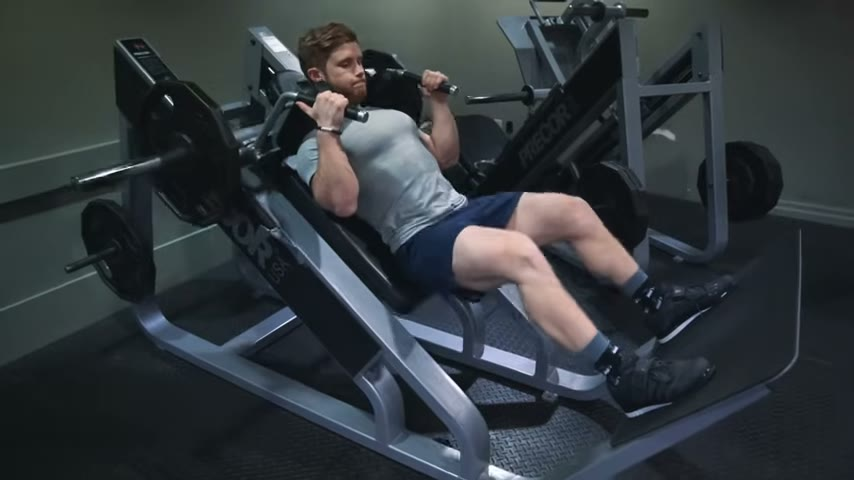barbell_plate_side: (665, 133, 807, 476)
